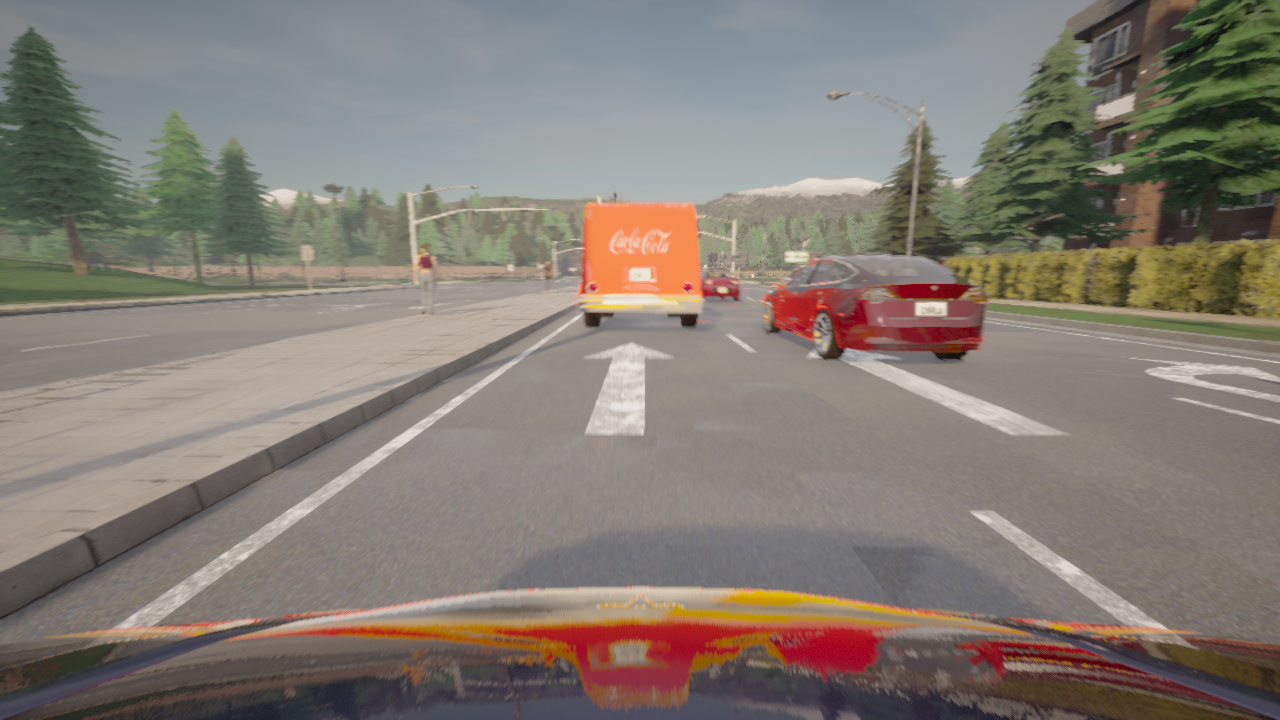cyclist: (0, 588, 1279, 719), (763, 255, 988, 359), (578, 204, 704, 327), (699, 267, 740, 301), (780, 267, 800, 282)
pedestrian: (415, 243, 438, 314), (541, 258, 551, 292)
